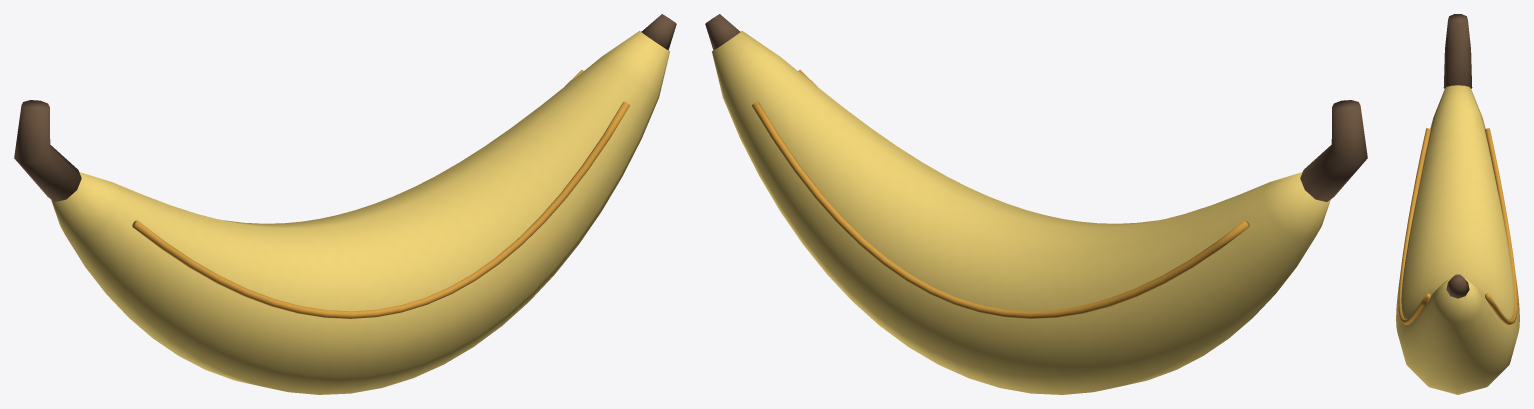
File: banana.glb
3 views of the same model, side by side, from view 1: azimuth 30°, elevation 25°; view 2: azimuth 150°, elevation 25°; view 3: azimuth 270°, elevation 25° (orthographic). The views are drawn at different scales.
Visible parts, largest first — view 1: BananaBody, PeelRidge.001, BananaStem, BlossomEnd; view 2: BananaBody, PeelRidge, BananaStem, BlossomEnd; view 3: BananaBody, BananaStem, PeelRidge.001, PeelRidge, BlossomEnd.
Part boxes in pixels (x1,y1,x2,y2): BananaBody: [51, 31, 669, 394]; PeelRidge.001: [132, 101, 629, 318]; BananaStem: [14, 100, 81, 201]; BlossomEnd: [641, 14, 676, 50]; BananaBody: [712, 31, 1330, 394]; PeelRidge: [752, 101, 1249, 318]; BananaStem: [1300, 100, 1367, 201]; BlossomEnd: [705, 14, 740, 50]; BananaBody: [1396, 85, 1519, 394]; BananaStem: [1443, 14, 1472, 88]; PeelRidge.001: [1398, 128, 1430, 324]; PeelRidge: [1485, 128, 1517, 324]; BlossomEnd: [1446, 274, 1469, 298].
Size of the model in its own units: 1.83 by 0.9477 by 0.43.
Materials: 1 (1 with a texture image).
